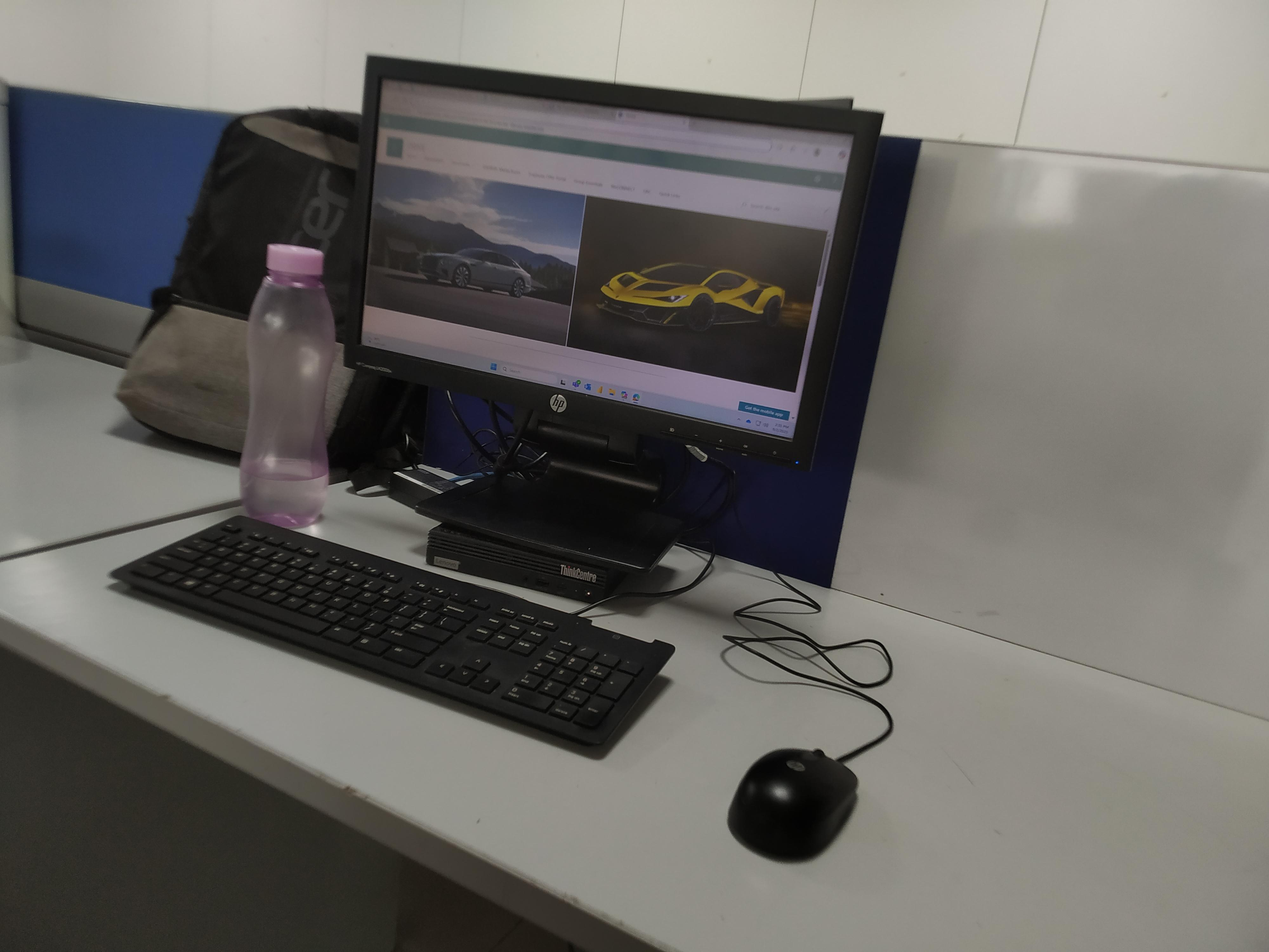bag: (95, 101, 361, 456)
bottle: (230, 232, 346, 539)
desktop: (336, 43, 900, 577)
keyboard: (97, 506, 692, 769)
mouse: (710, 709, 899, 886)
